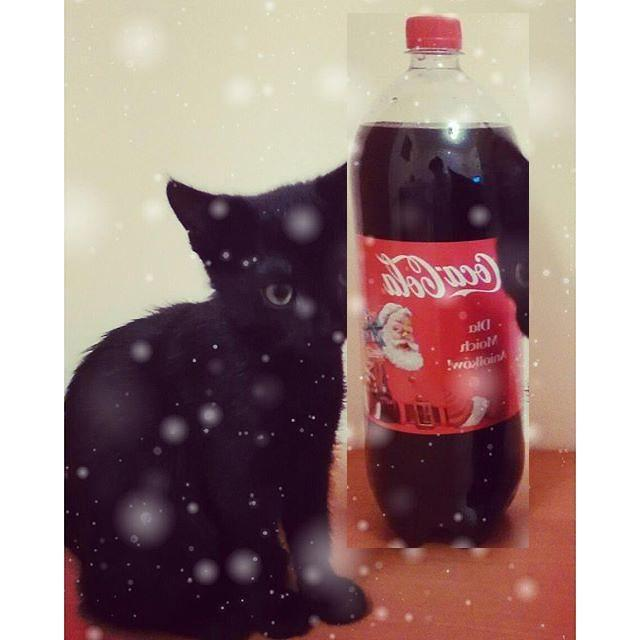coca-cola: (347, 13, 529, 548)
